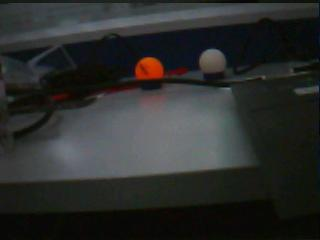oball: (135, 57, 163, 78)
